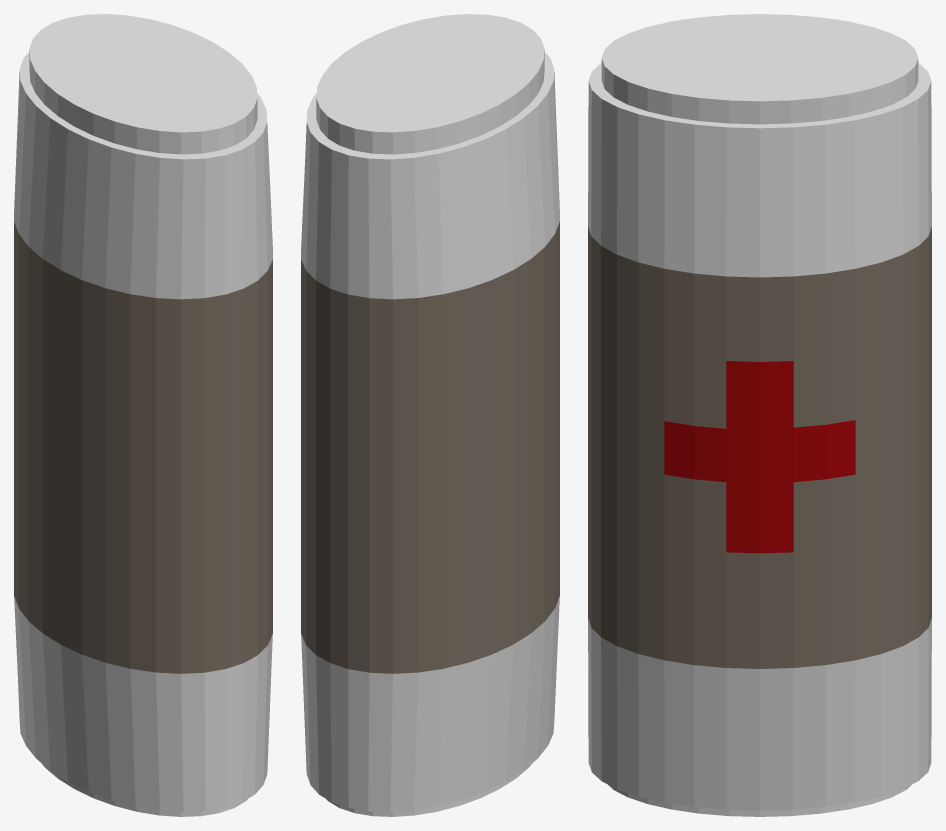
File: MedicineItem2.fbx
The picture shows the model from 3 angles, left to right: view 1: azimuth 30°, elevation 25°; view 2: azimuth 150°, elevation 25°; view 3: azimuth 270°, elevation 25°; orthographic projection. The views are drawn at different scales.
Parts seen in each view (by area): view 1: Cylinder; view 2: Cylinder; view 3: Cylinder.
Boxes of the visible parts, x1,y1,x2,y2 form: Cylinder: (14,14,272,816); Cylinder: (301,14,559,816); Cylinder: (588,14,931,816).
Bounding box in the file's own units: 41.62 × 135 × 58.9.
